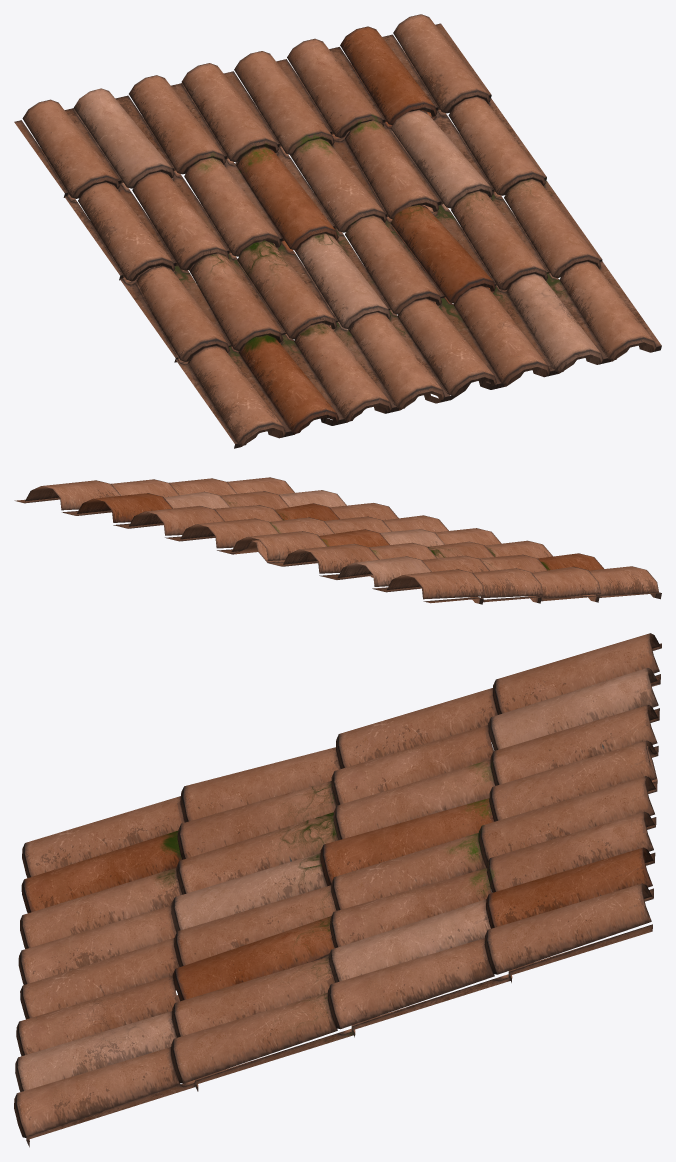
The model's file is modular_roof_shingles.glb.
3 views of the same model, one above another, from view 1: azimuth 30°, elevation 25°; view 2: azimuth 150°, elevation 25°; view 3: azimuth 270°, elevation 25° (orthographic). The views are drawn at different scales.
Visible parts, largest first — view 1: Roof02_LP_Opt_Material #356_0; view 2: Roof02_LP_Opt_Material #356_0; view 3: Roof02_LP_Opt_Material #356_0.
Part boxes in pixels (<box>): Roof02_LP_Opt_Material #356_0: <box>14,14,661,448</box>; Roof02_LP_Opt_Material #356_0: <box>14,477,661,604</box>; Roof02_LP_Opt_Material #356_0: <box>14,633,661,1147</box>.
Size of the model in its own units: 203 by 81.43 by 192.
1 material, 1 textured.
